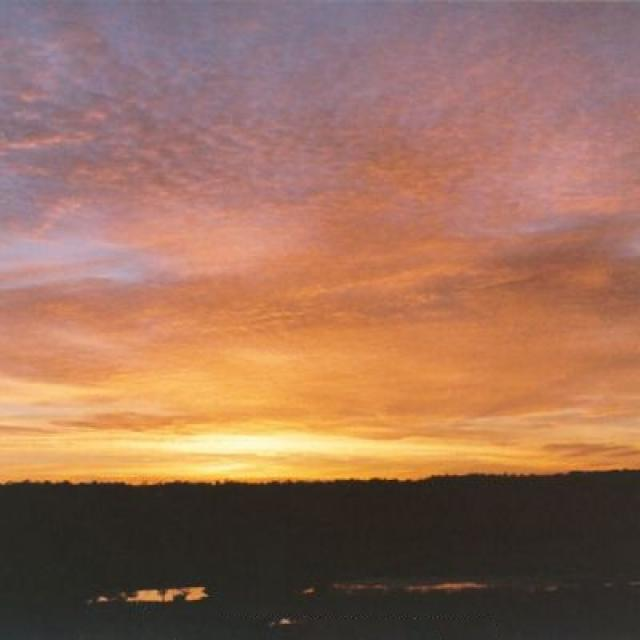As: (1, 54, 640, 449)
